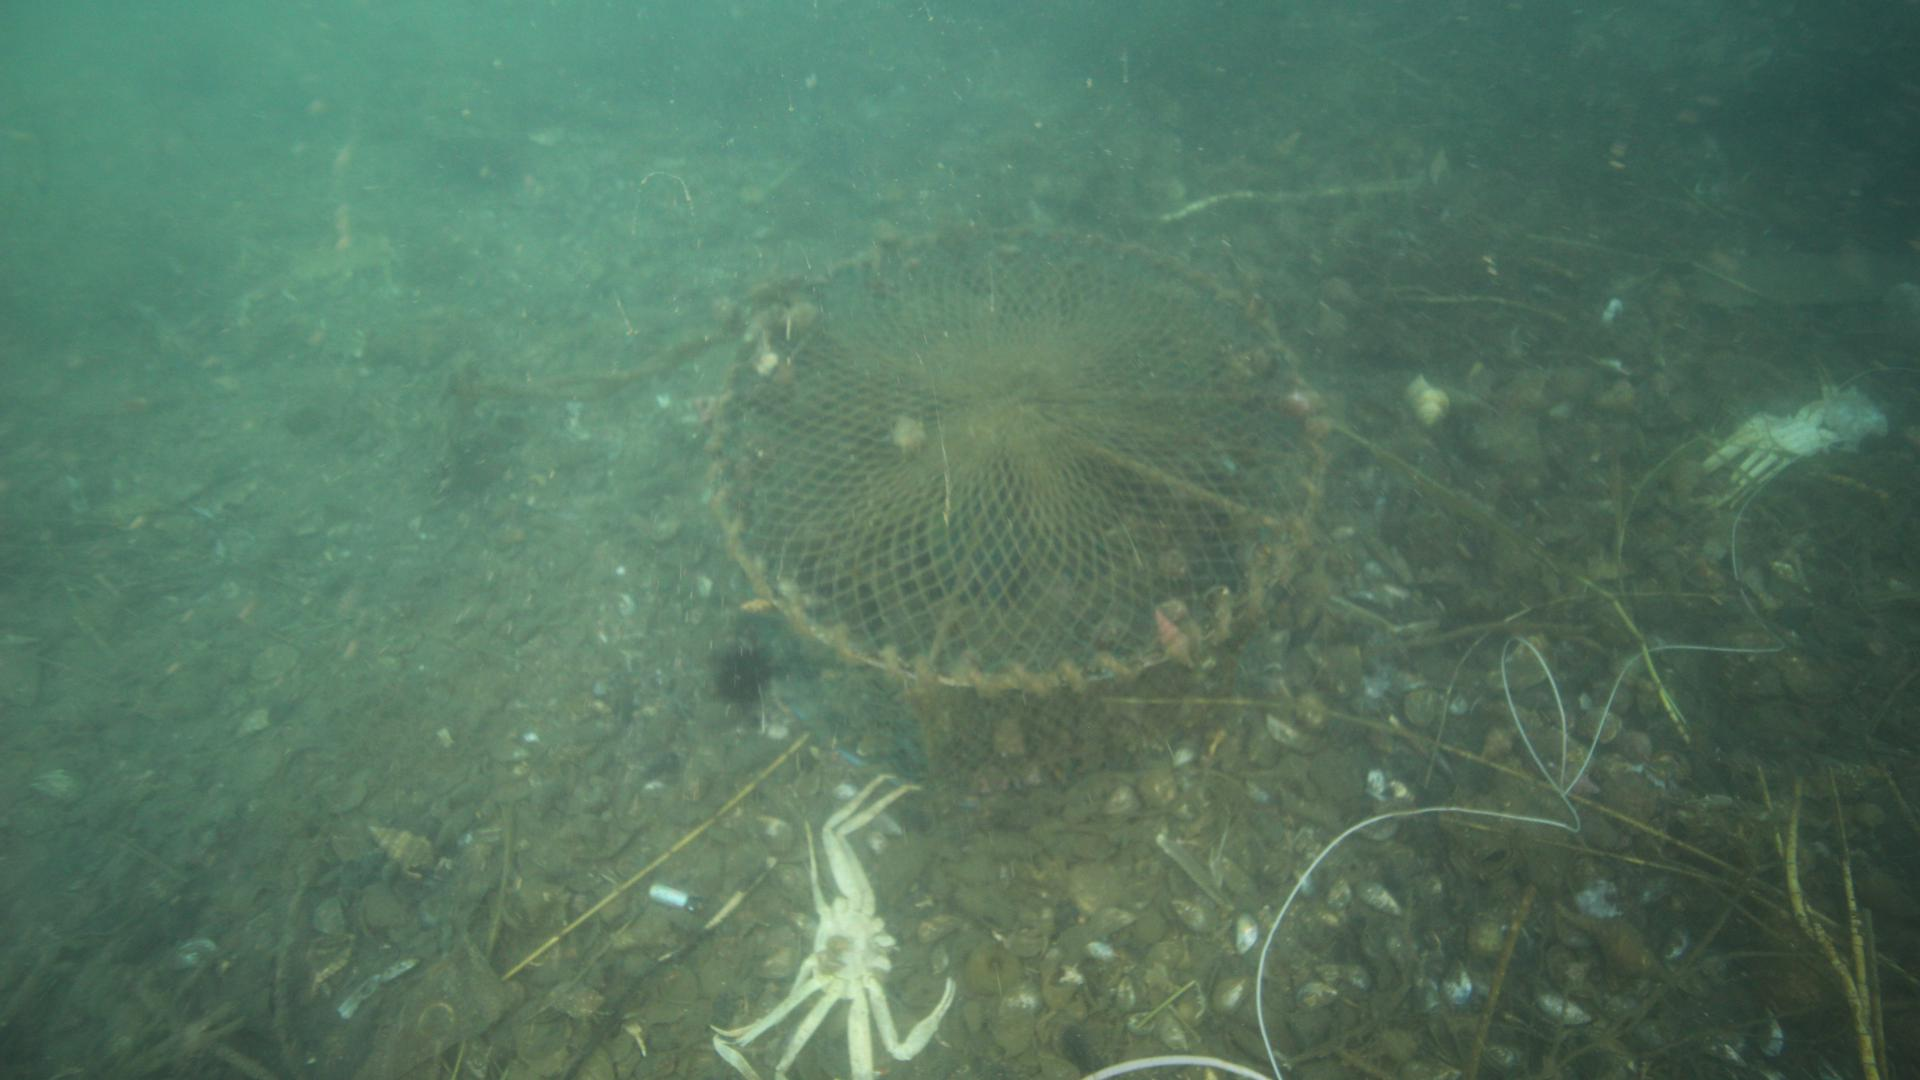circular fish trap: (688, 211, 1342, 791)
